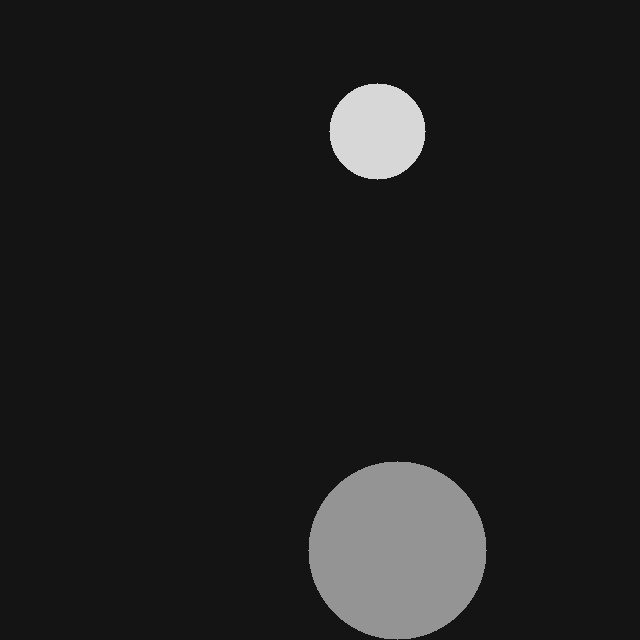circle: (308, 461, 486, 639), (329, 83, 425, 179), (320, 523, 384, 587)
